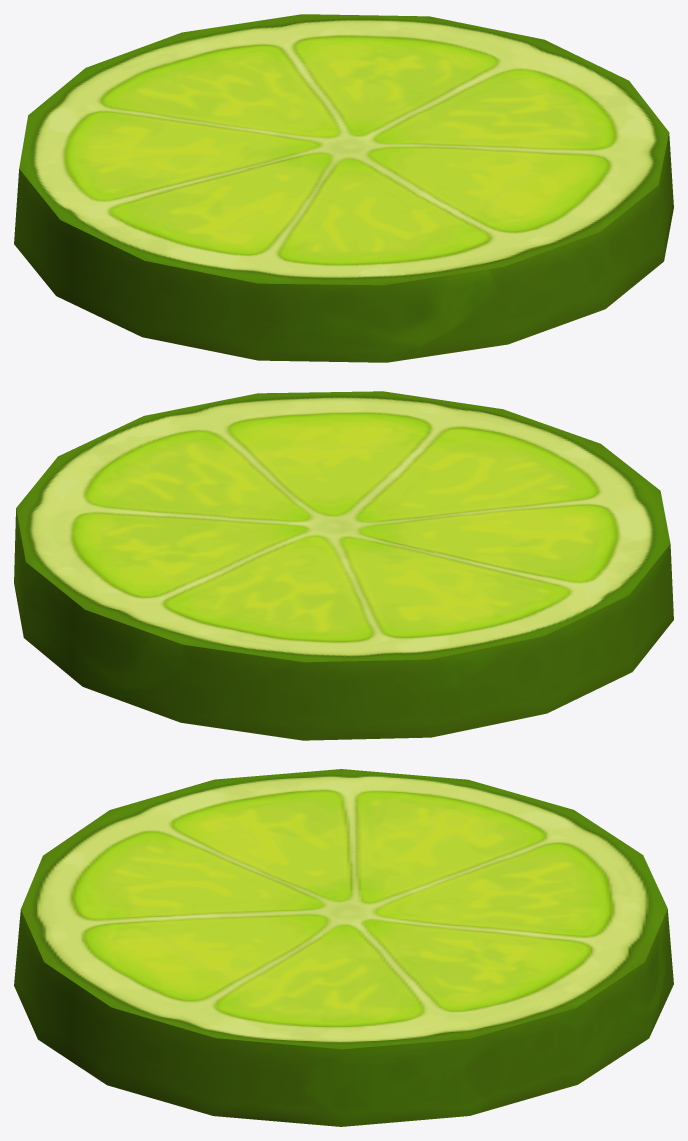
Rendered from SM_LimeCut.fbx.
3 views of the same model, one above another, from view 1: azimuth 30°, elevation 25°; view 2: azimuth 150°, elevation 25°; view 3: azimuth 270°, elevation 25° (orthographic).
Parts seen in each view (by area): view 1: SM_LimeCut; view 2: SM_LimeCut; view 3: SM_LimeCut.
Boxes of the visible parts, x1,y1,x2,y2 form: SM_LimeCut: (14, 14, 673, 362); SM_LimeCut: (14, 391, 673, 740); SM_LimeCut: (14, 769, 673, 1126).
Bounding box in the file's own units: 8.55 × 1.07 × 8.4.
